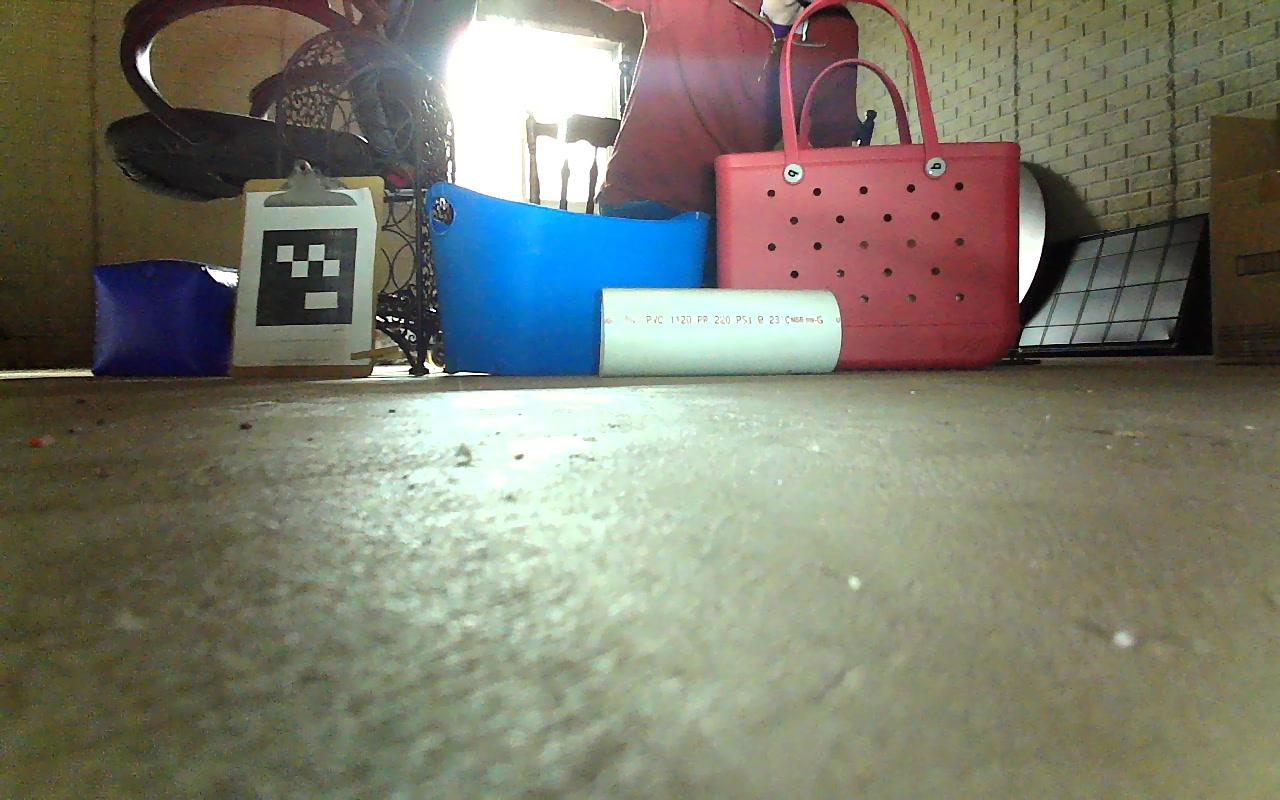coral: (599, 286, 841, 375)
